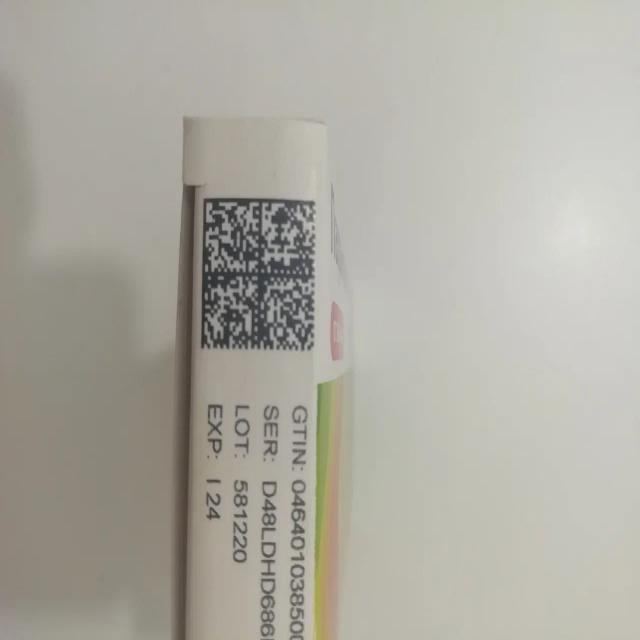datamatrix: (201, 197, 318, 356)
